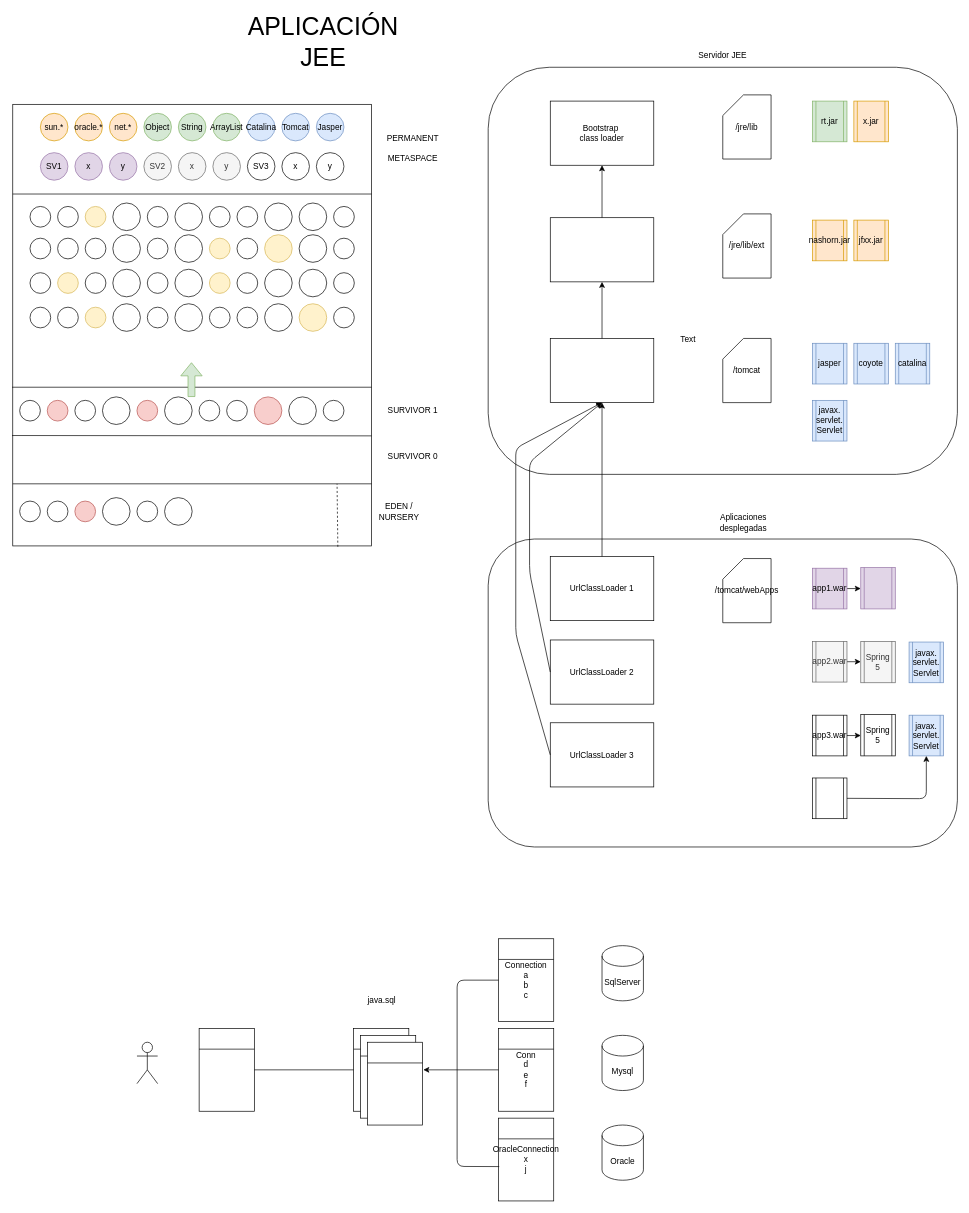
Some shapes in this 969 by 1213 pixel diagram are drawn without their labels. The centre of each missing label's shape, as x and y in pixels:
"Actor" goes at point 147,1063.
"Extensions class loader" goes at point 602,249.
"Interfaces" goes at point 395,1083.
"Spring 4" goes at point 877,588.
"SvClientes" goes at point 829,798.
"System/App class loader" goes at point 602,370.
